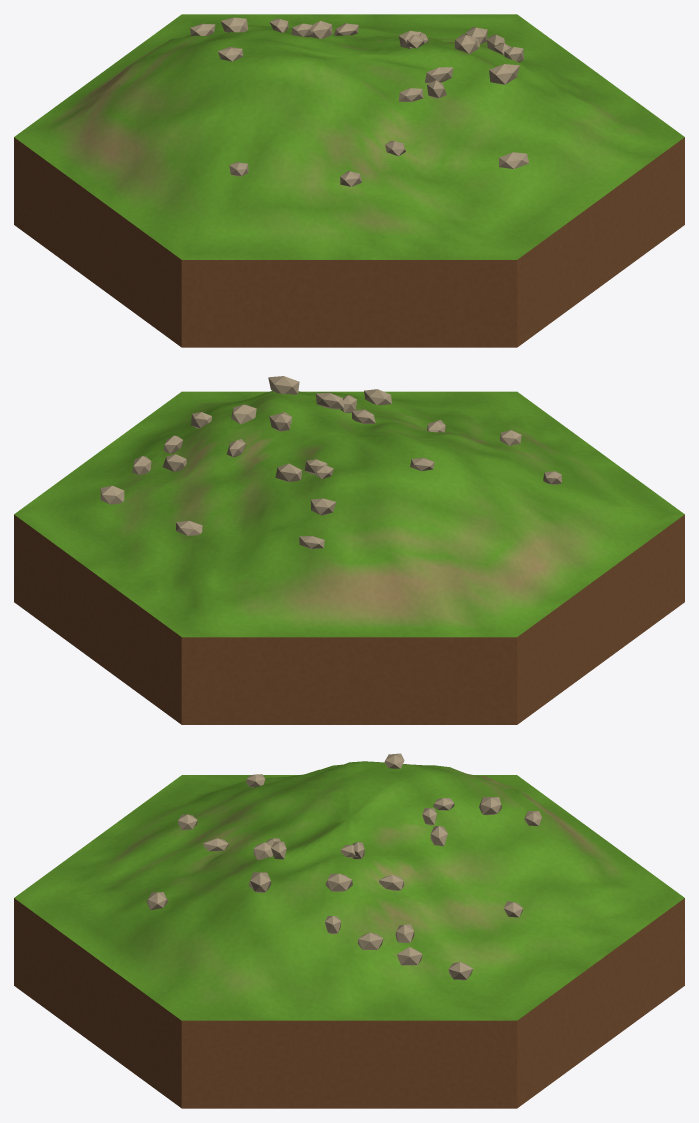
Rendered from SM_ColinaNatural_A_LOD0.fbx.
3 views of the same model, one above another, from view 1: azimuth 30°, elevation 25°; view 2: azimuth 150°, elevation 25°; view 3: azimuth 270°, elevation 25° (orthographic).
Parts seen in each view (by area): view 1: SM_ColinaNatural_A_LOD0; view 2: SM_ColinaNatural_A_LOD0; view 3: SM_ColinaNatural_A_LOD0.
Part boxes in pixels (x1,y1,x2,y2): SM_ColinaNatural_A_LOD0: [14, 14, 684, 347]; SM_ColinaNatural_A_LOD0: [14, 376, 684, 724]; SM_ColinaNatural_A_LOD0: [14, 753, 684, 1108].
Bounding box in the file's own units: 1.68 × 0.5852 × 1.94.
1 material, 1 textured.
